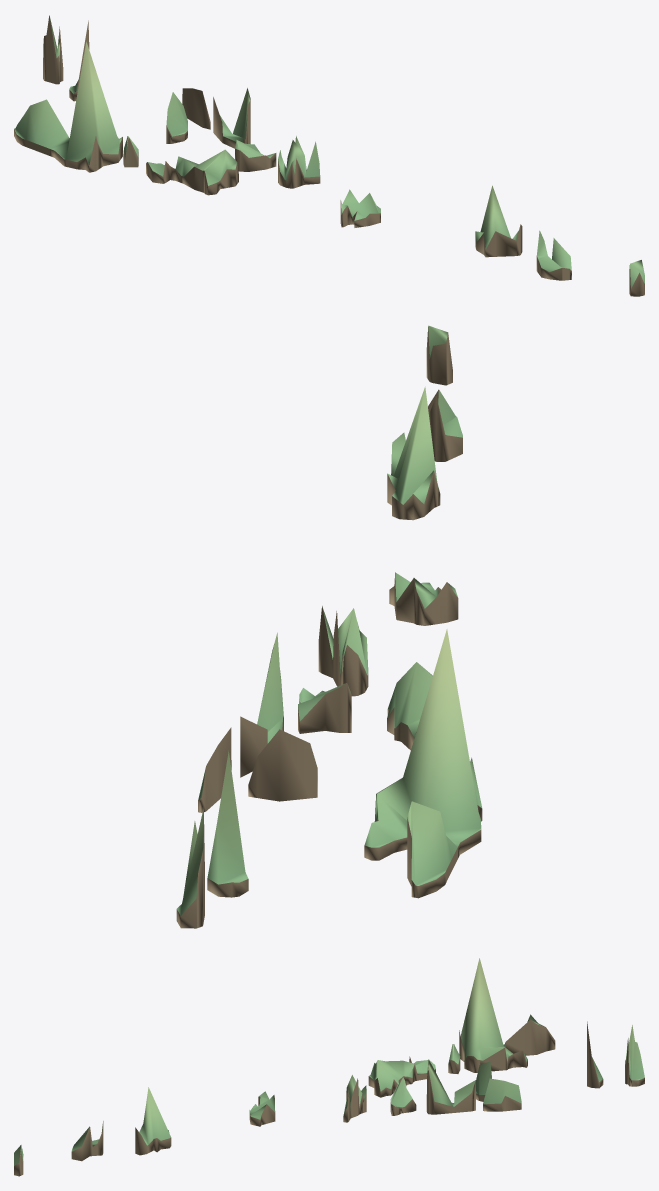
File: VUT.glb
3 renders of one model, top to bottom at view 1: azimuth 30°, elevation 25°; view 2: azimuth 150°, elevation 25°; view 3: azimuth 270°, elevation 25°, orthographic. The views are drawn at different scales.
Visible parts, largest first — view 1: VUT; view 2: VUT; view 3: VUT.
Boxes of the visible parts, <box> form: VUT: <box>14,15,644,296</box>; VUT: <box>176,325,482,928</box>; VUT: <box>14,958,644,1176</box>.
Size of the model in its own units: 0.8287 by 0.3018 by 1.7.
